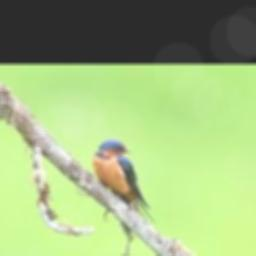Swallow: (92, 139, 154, 225)
